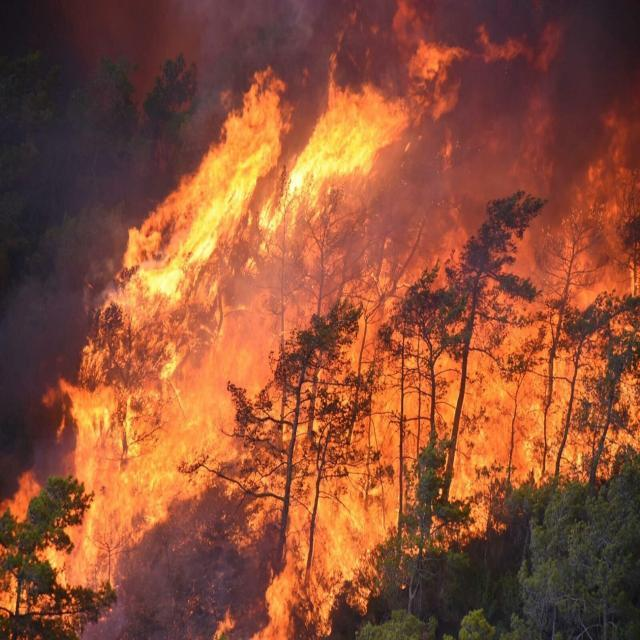Fire: (435, 278, 640, 494), (280, 373, 428, 640), (65, 360, 214, 580), (135, 71, 278, 296), (288, 65, 411, 223)
